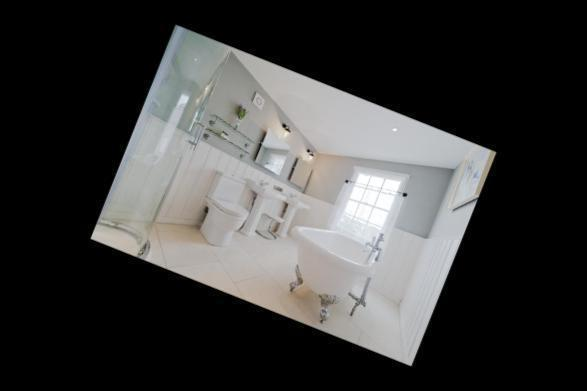Ducha: (91, 28, 235, 262)
Lavamanos: (241, 173, 289, 206), (284, 190, 313, 213)
Sanitario: (185, 164, 260, 253)
